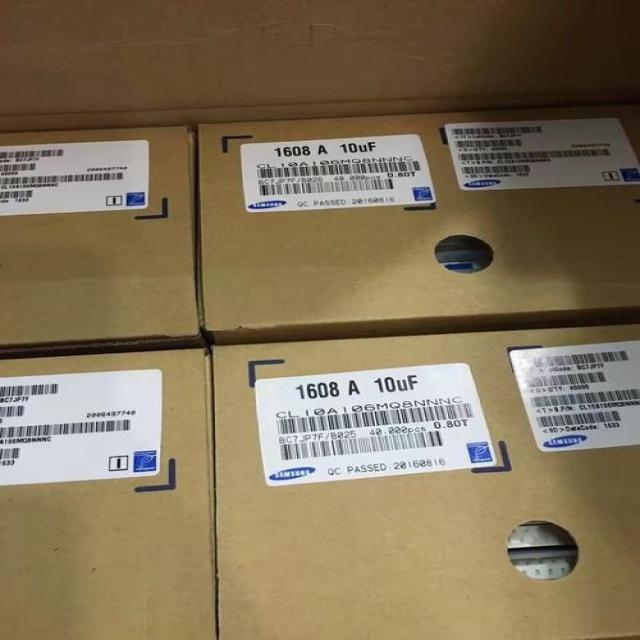box: (209, 323, 639, 639), (194, 101, 639, 342), (3, 1, 638, 126), (1, 342, 218, 639), (0, 124, 204, 356)
